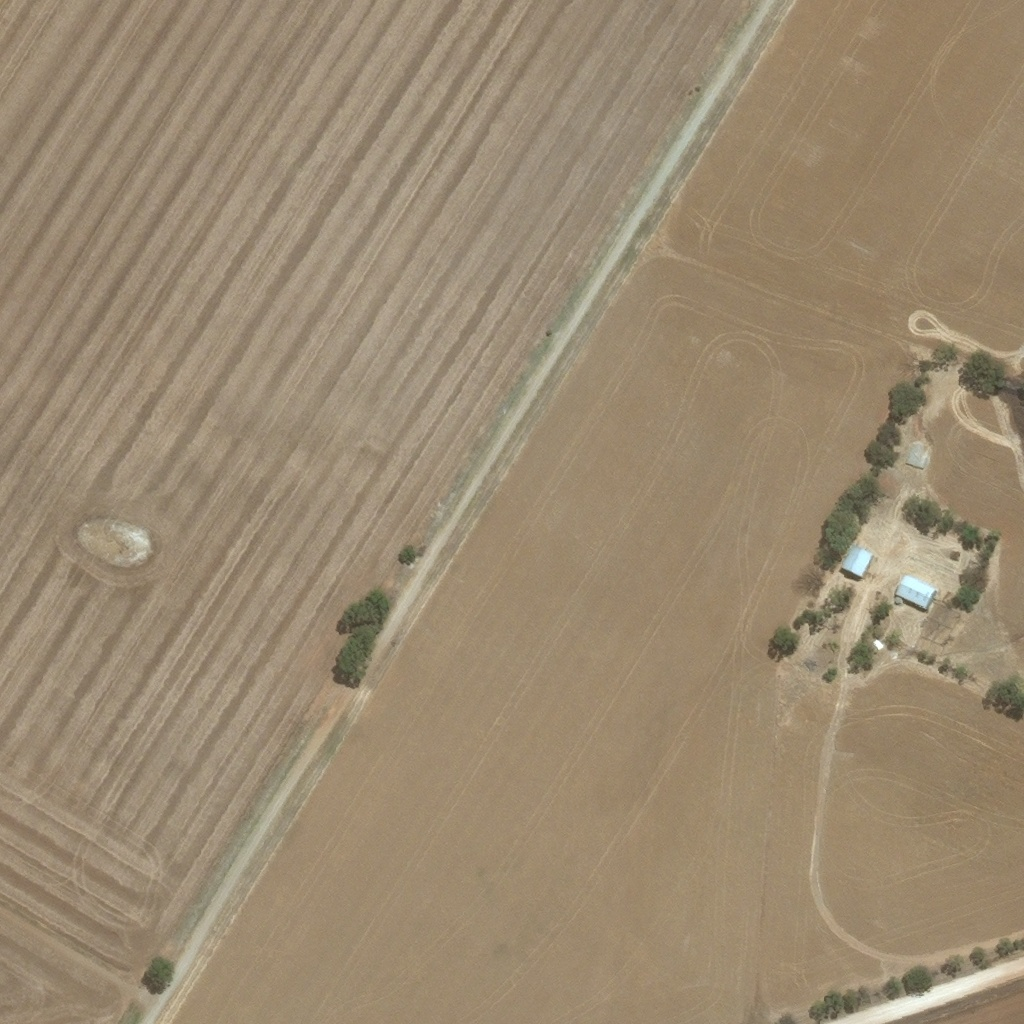0 no-damage: (895, 571, 938, 608), (839, 541, 875, 579), (906, 441, 931, 468), (895, 595, 902, 602)
